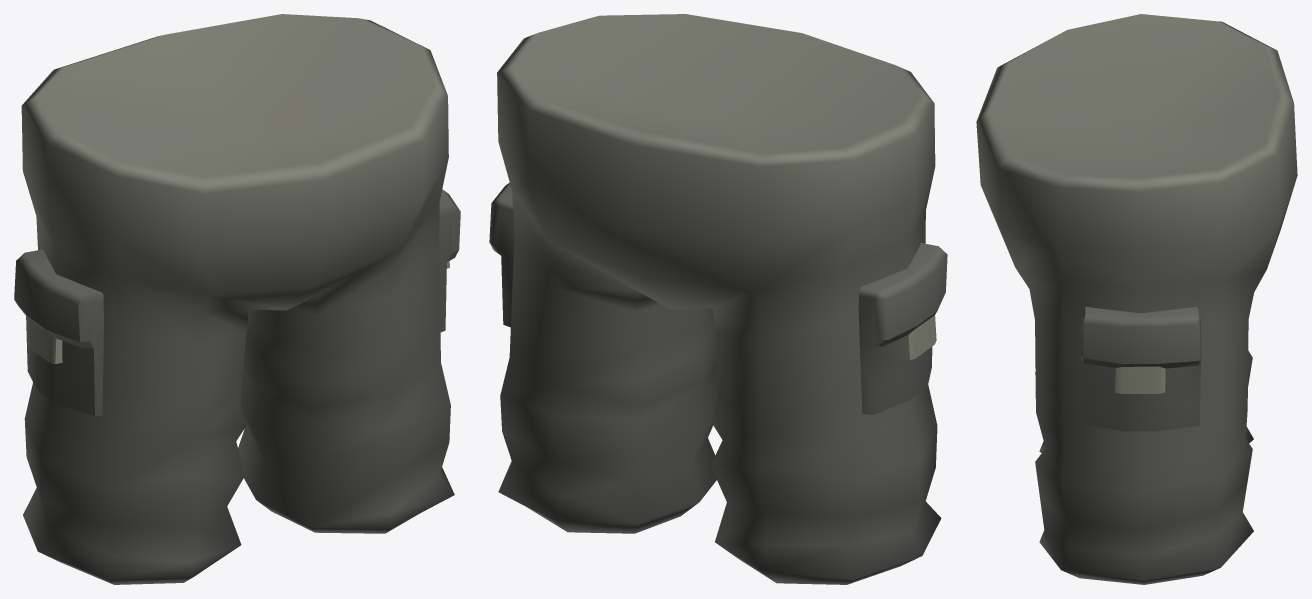
The model's file is Bottom_19.fbx.
The picture shows the model from 3 angles, left to right: view 1: azimuth 30°, elevation 25°; view 2: azimuth 150°, elevation 25°; view 3: azimuth 270°, elevation 25°; orthographic projection. The views are drawn at different scales.
Parts seen in each view (by area): view 1: Bottom_19; view 2: Bottom_19; view 3: Bottom_19.
Boxes of the visible parts, x1,y1,x2,y2 form: Bottom_19: (14,14,460,584); Bottom_19: (489,14,947,584); Bottom_19: (976,14,1297,584).
Bounding box in the file's own units: 40.66 × 42.09 × 29.68.
